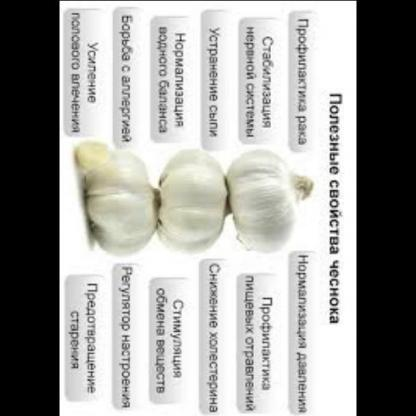garlic: (215, 141, 324, 252), (153, 143, 233, 262), (88, 147, 168, 257), (72, 139, 111, 173)
